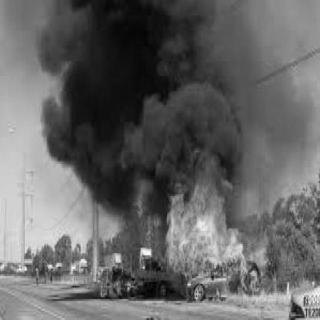Smoke: (36, 0, 260, 188)
